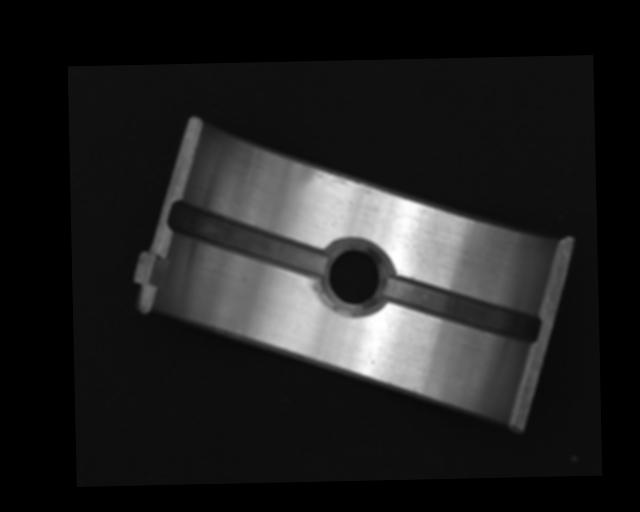gap: (173, 199, 326, 281), (386, 273, 542, 346)
hole: (317, 236, 393, 318)
